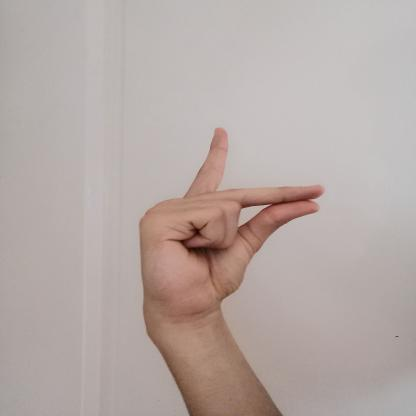TAA: (127, 121, 335, 330)
